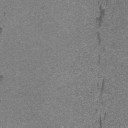red iron: (96, 5, 106, 27), (99, 112, 106, 128), (99, 80, 105, 96), (96, 32, 101, 46)
